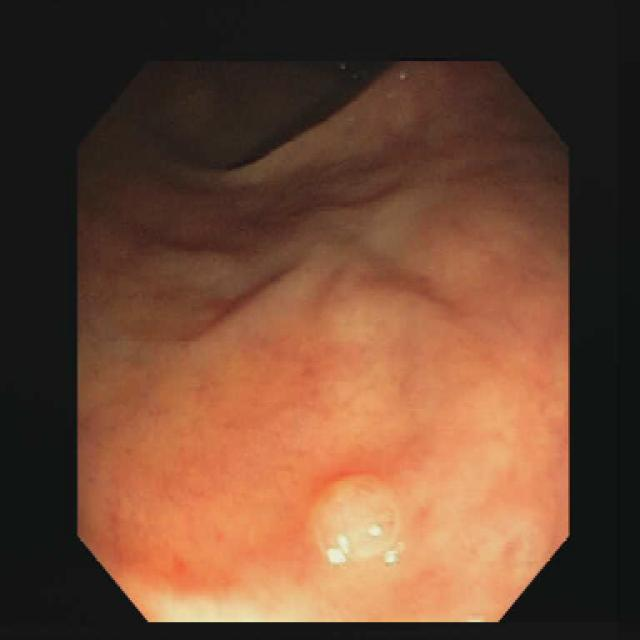tumor: (308, 478, 402, 562)
